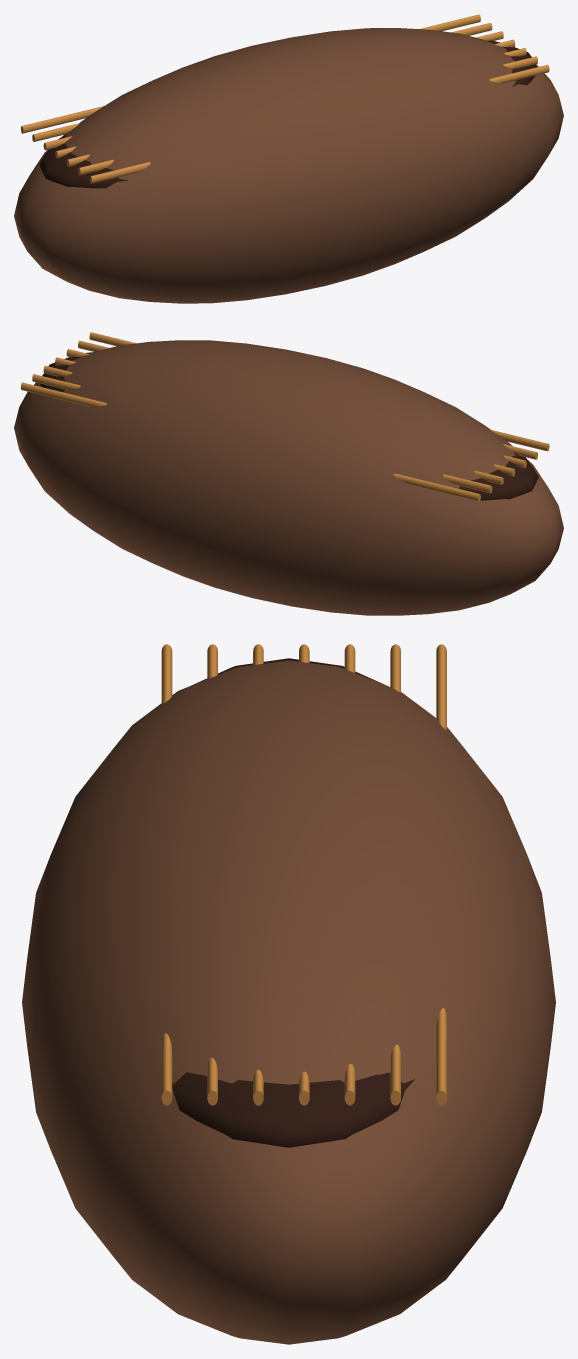
Rendered from wp-buche-de-noel.glb.
The picture shows the model from 3 angles, top to bottom: view 1: azimuth 30°, elevation 25°; view 2: azimuth 150°, elevation 25°; view 3: azimuth 270°, elevation 25°; orthographic projection. The views are drawn at different scales.
Parts seen in each view (by area): view 1: wp-buche-de-noel; view 2: wp-buche-de-noel; view 3: wp-buche-de-noel.
Part boxes in pixels (x1=…): wp-buche-de-noel: x1=14, y1=14, x2=563, y2=303; wp-buche-de-noel: x1=14, y1=332, x2=563, y2=615; wp-buche-de-noel: x1=22, y1=644, x2=555, y2=1344.
Bounding box in the file's own units: 0.3 × 0.12 × 0.13.
